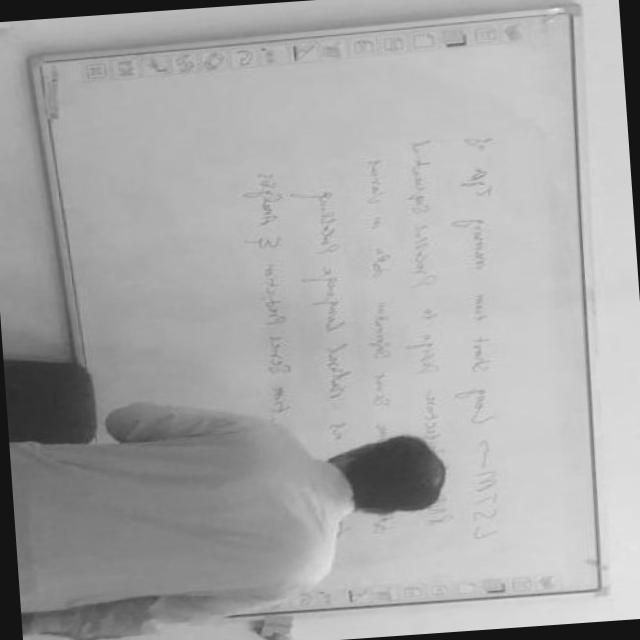Instructor: (19, 400, 486, 620)
White-board: (37, 8, 607, 626)
